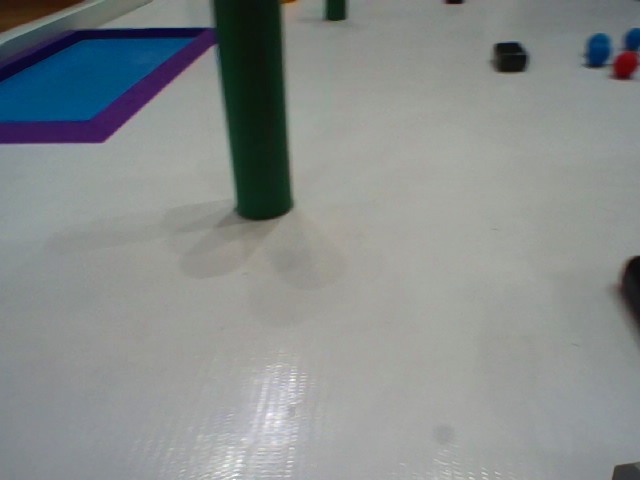black: (493, 40, 525, 71)
blue: (585, 41, 609, 65), (623, 27, 640, 48), (589, 32, 608, 50)
kuang: (1, 24, 232, 146)
red: (613, 51, 636, 75)
zhuzi: (205, 1, 298, 223), (322, 1, 352, 23)
